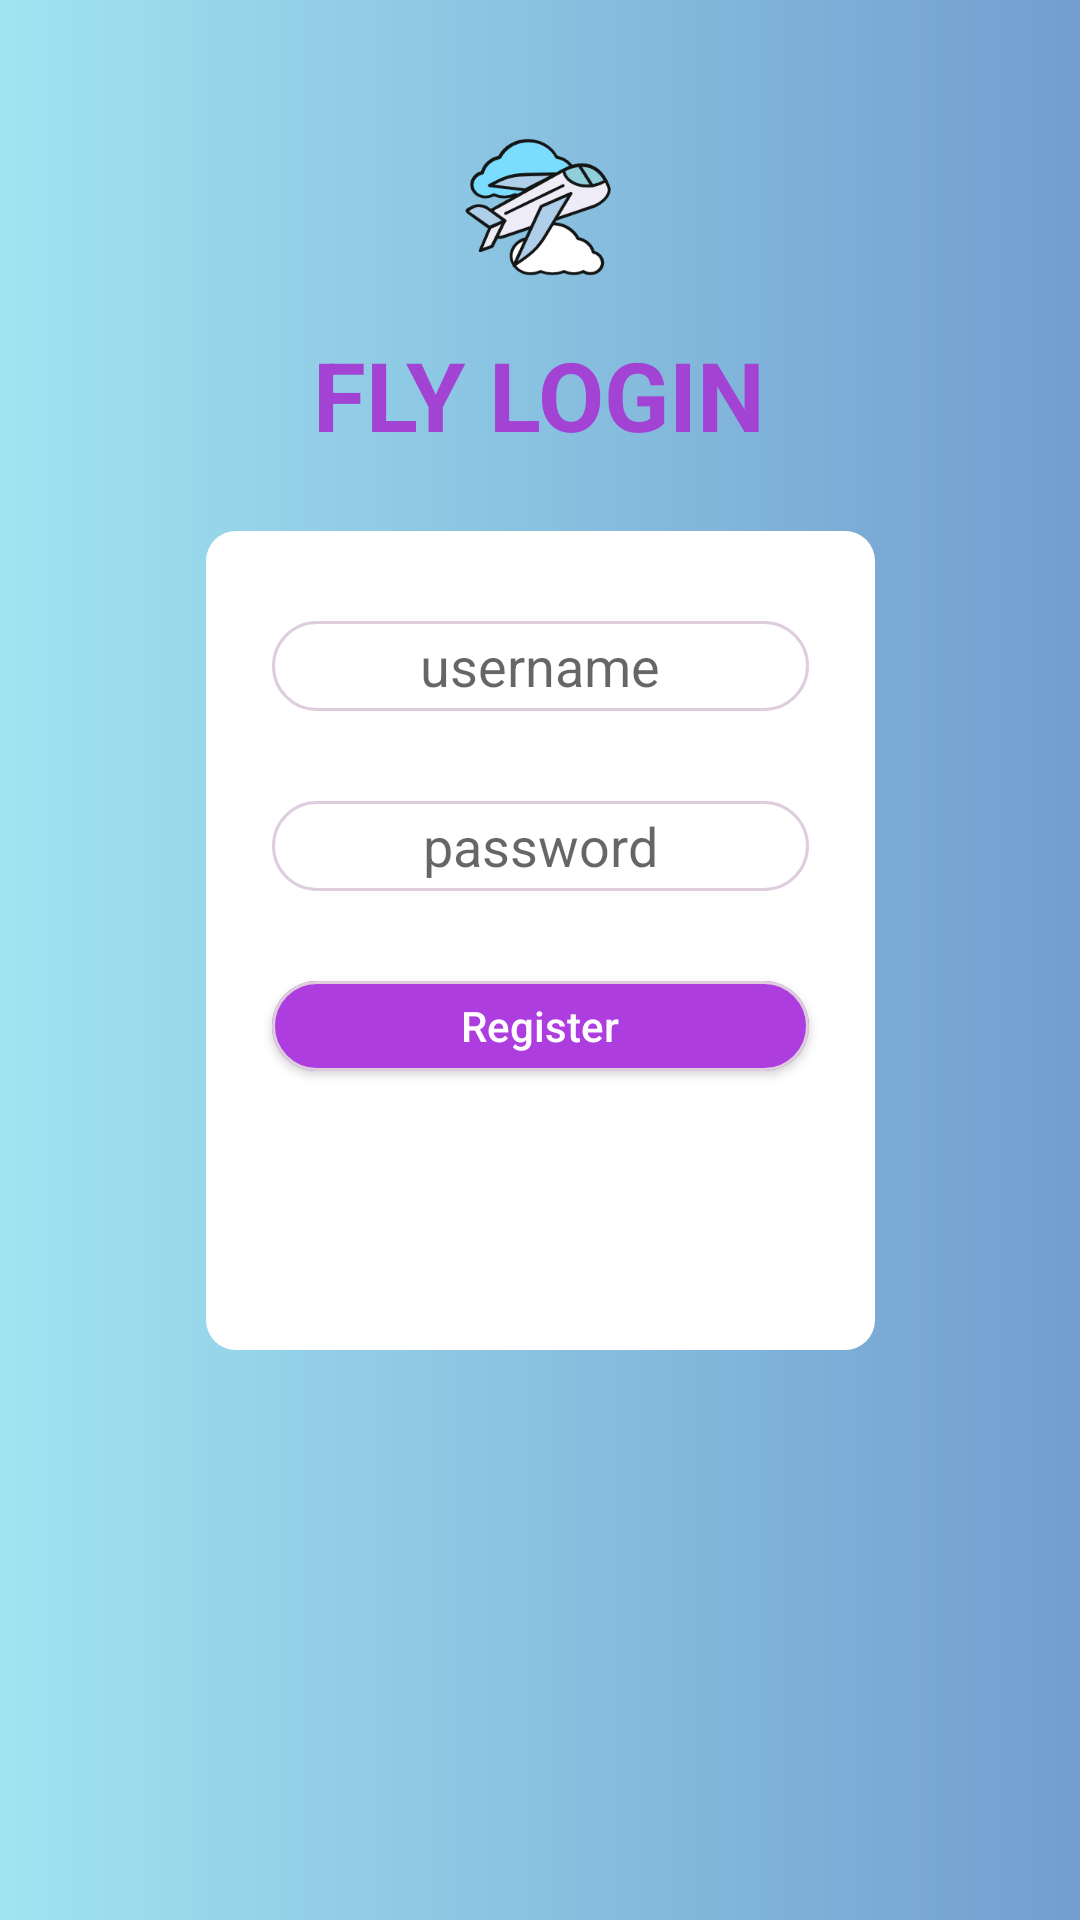

Screen size 1080 x 1920. Icon name, then its center in pixels as (x=x, y=y):
feiji: (x=538, y=207)
